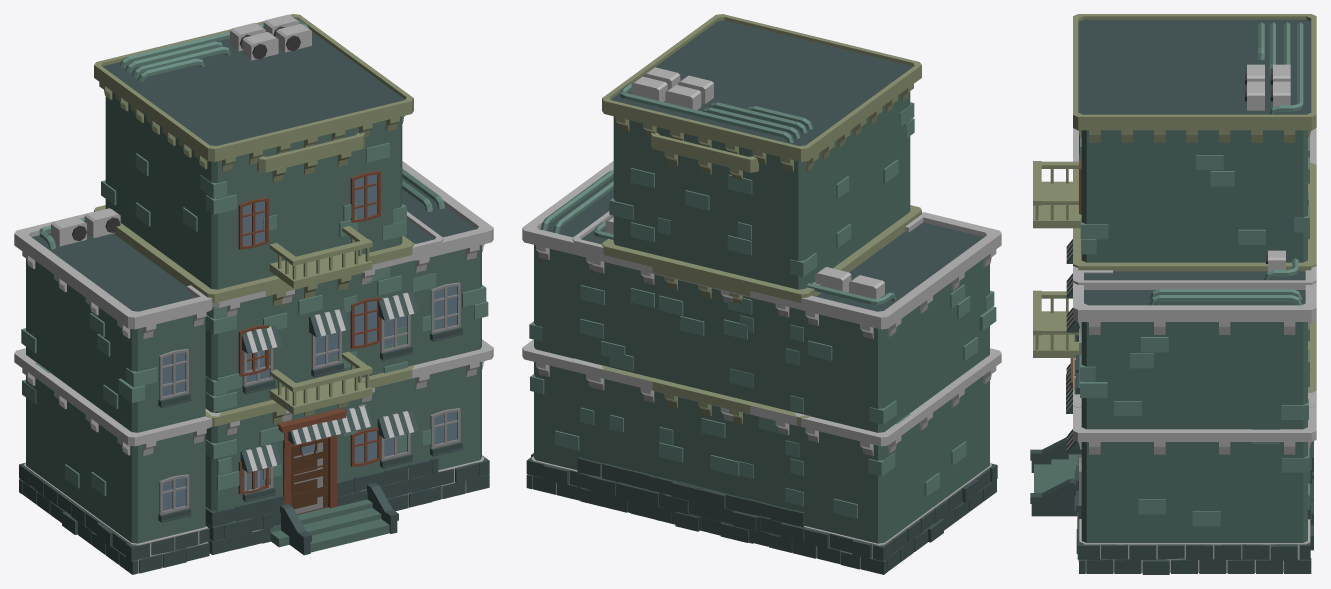
Rendered from gebouwen.glb.
The picture shows the model from 3 angles, left to right: view 1: azimuth 30°, elevation 25°; view 2: azimuth 150°, elevation 25°; view 3: azimuth 270°, elevation 25°; orthographic projection. The views are drawn at different scales.
Visible parts, largest first — view 1: 3Story_Balcony_Mat, 2Story_Wide_Mat, 2Story_Double_Mat, 3Story_Slim_Mat; view 2: 3Story_Balcony_Mat, 2Story_Wide_Mat, 2Story_Double_Mat, 3Story_Slim_Mat; view 3: 3Story_Balcony_Mat, 2Story_Wide_Mat, 2Story_Double_Mat.
Part boxes in pixels (bbox=[...]): 3Story_Balcony_Mat: bbox=[94, 14, 413, 554]; 2Story_Wide_Mat: bbox=[14, 161, 493, 574]; 2Story_Double_Mat: bbox=[205, 211, 443, 555]; 3Story_Slim_Mat: bbox=[257, 132, 364, 543]; 3Story_Balcony_Mat: bbox=[602, 14, 921, 552]; 2Story_Wide_Mat: bbox=[522, 161, 1001, 574]; 2Story_Double_Mat: bbox=[572, 211, 804, 541]; 3Story_Slim_Mat: bbox=[651, 132, 758, 543]; 3Story_Balcony_Mat: bbox=[1033, 14, 1316, 516]; 2Story_Wide_Mat: bbox=[1073, 128, 1316, 574]; 2Story_Double_Mat: bbox=[1030, 239, 1316, 528].
Bounding box in the file's own units: 3.83 × 4.22 × 2.53.
